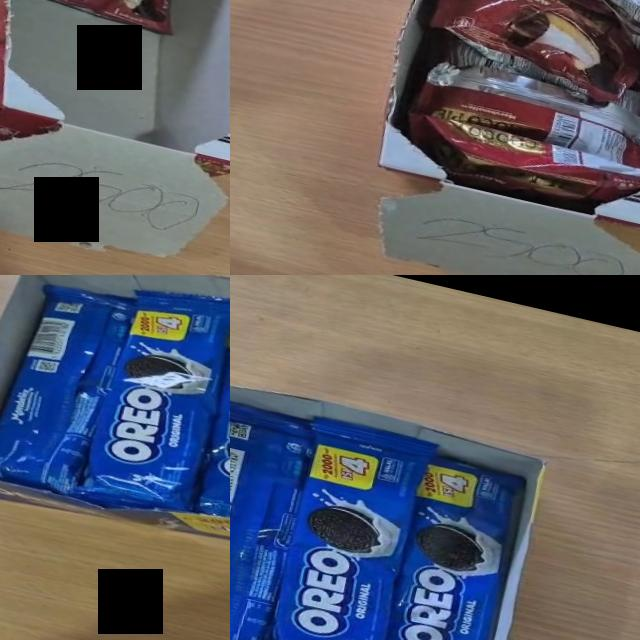Chocopie: (397, 109, 640, 225), (408, 51, 640, 169), (422, 0, 640, 108), (443, 35, 640, 123), (8, 0, 186, 35), (552, 0, 640, 59)
Oreo: (254, 412, 440, 640), (69, 275, 230, 529), (369, 449, 533, 640), (0, 275, 134, 501), (230, 393, 320, 640), (187, 309, 230, 533)
